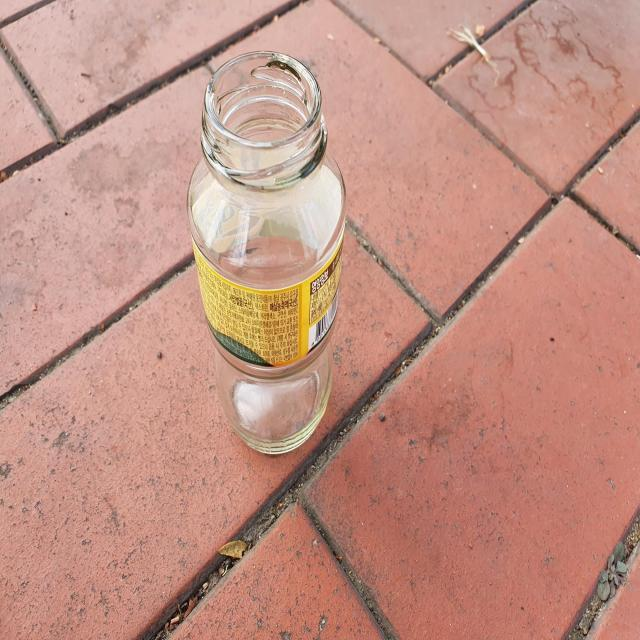glass: (187, 50, 345, 453)
